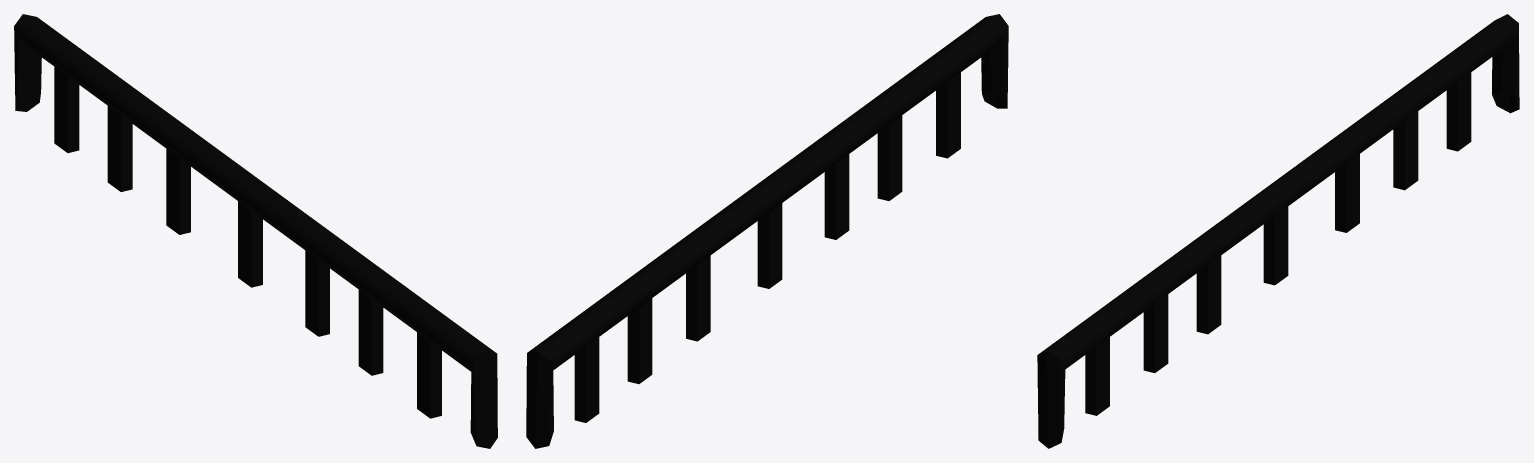
The model's file is side barrier.FBX.
3 renders of one model, left to right at view 1: azimuth 30°, elevation 25°; view 2: azimuth 150°, elevation 25°; view 3: azimuth 330°, elevation 25°, orthographic.
Parts seen in each view (by area): view 1: Cylinder002; view 2: Cylinder002; view 3: Cylinder002.
Boxes of the visible parts, bbox=[...] form: Cylinder002: bbox=[14, 14, 497, 448]; Cylinder002: bbox=[526, 14, 1008, 448]; Cylinder002: bbox=[1037, 14, 1519, 448].
Size of the model in its own units: 1.11 by 4.1 by 34.93.
